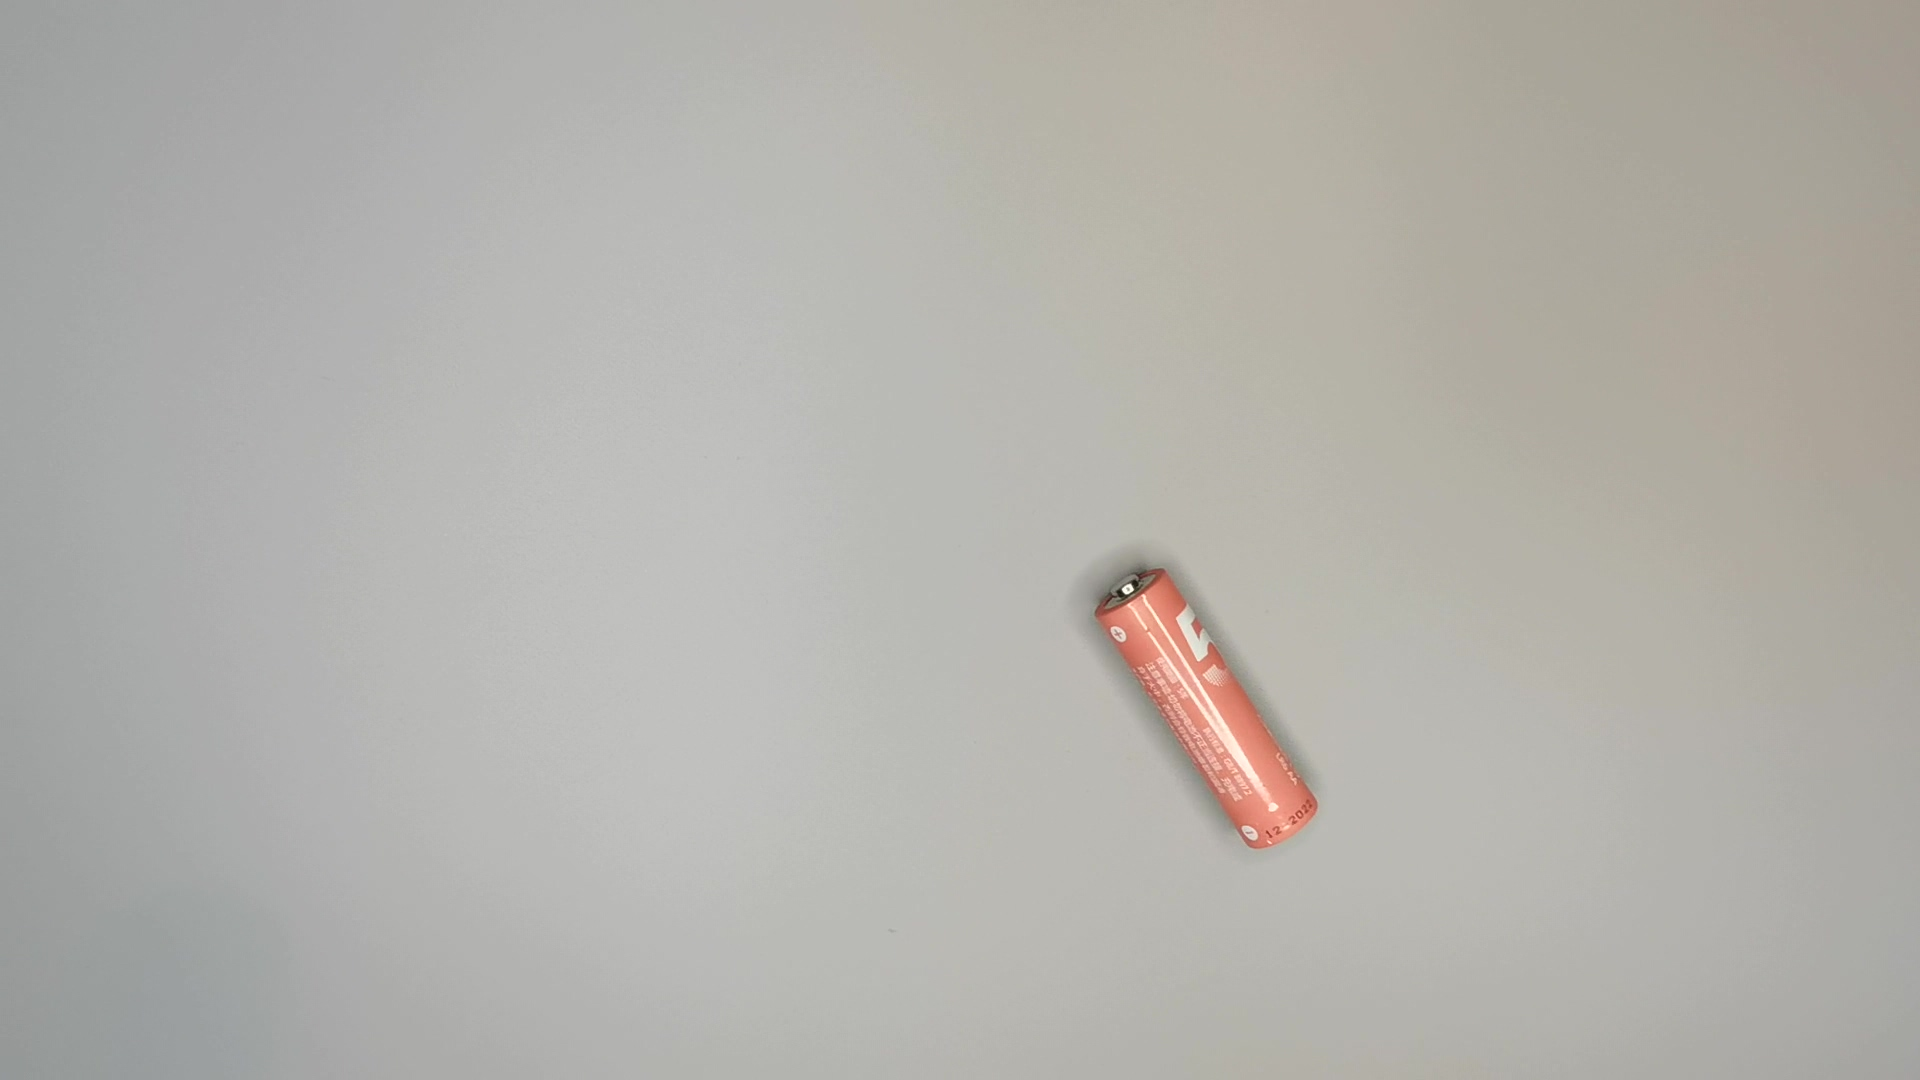battery: (1095, 567, 1331, 856)
